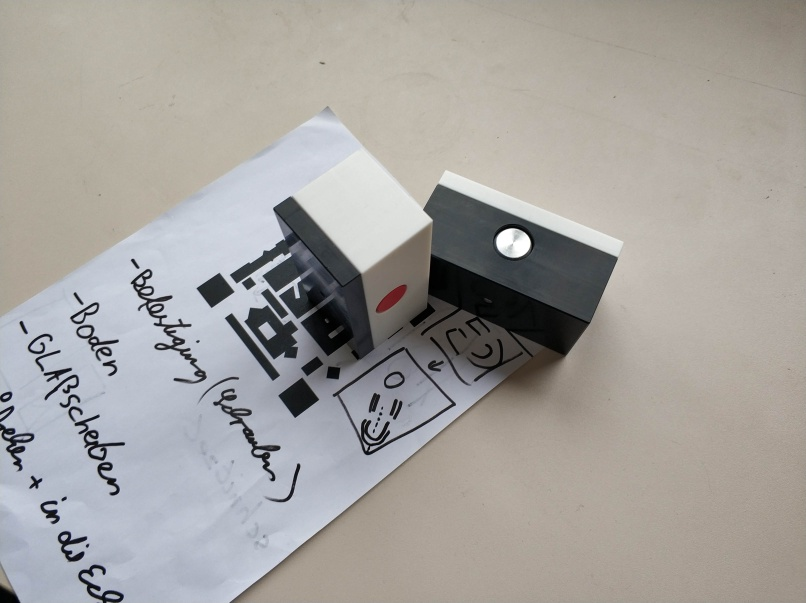black+white+red: (271, 145, 431, 361)
white+black+silver: (422, 165, 626, 357)
